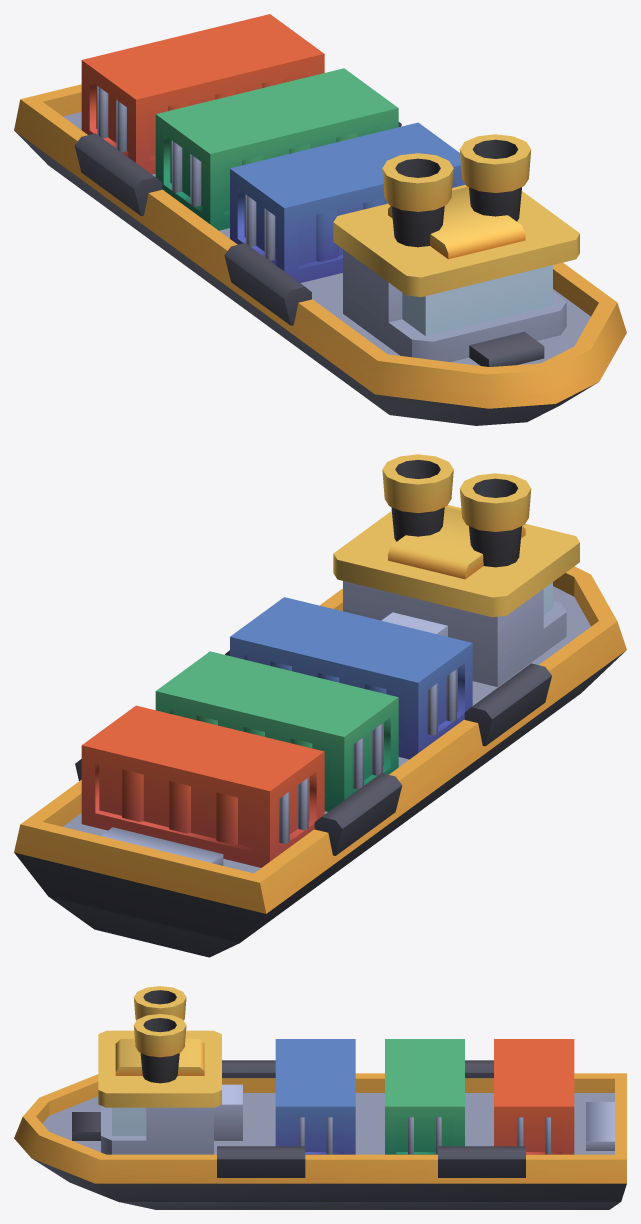
Rendered from ship-cargo-a.glb.
The picture shows the model from 3 angles, top to bottom: view 1: azimuth 30°, elevation 25°; view 2: azimuth 150°, elevation 25°; view 3: azimuth 270°, elevation 25°; orthographic projection. The views are drawn at different scales.
Parts seen in each view (by area): view 1: ship-cargo-a; view 2: ship-cargo-a; view 3: ship-cargo-a.
Boxes of the visible parts, box(x1,y1,x2,y2) form: ship-cargo-a: box(14, 14, 626, 425); ship-cargo-a: box(14, 454, 626, 957); ship-cargo-a: box(14, 986, 626, 1209).
Bounding box in the file's own units: 3.92 × 3.38 × 10.55.
1 material, 1 textured.
